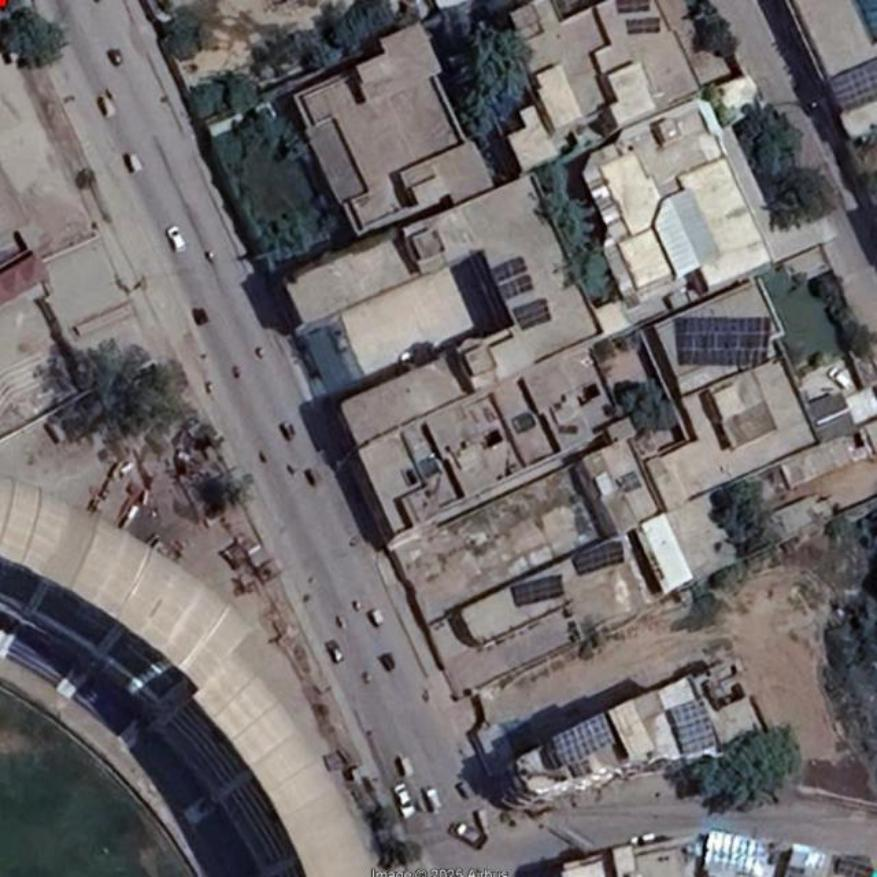Solarpanel: (681, 317, 771, 366), (705, 831, 777, 876), (554, 716, 612, 768), (831, 58, 876, 113), (673, 700, 714, 753), (509, 573, 565, 609), (573, 540, 625, 578), (515, 300, 553, 331), (490, 254, 529, 281), (499, 273, 533, 300), (627, 19, 659, 37), (618, 0, 651, 11)
